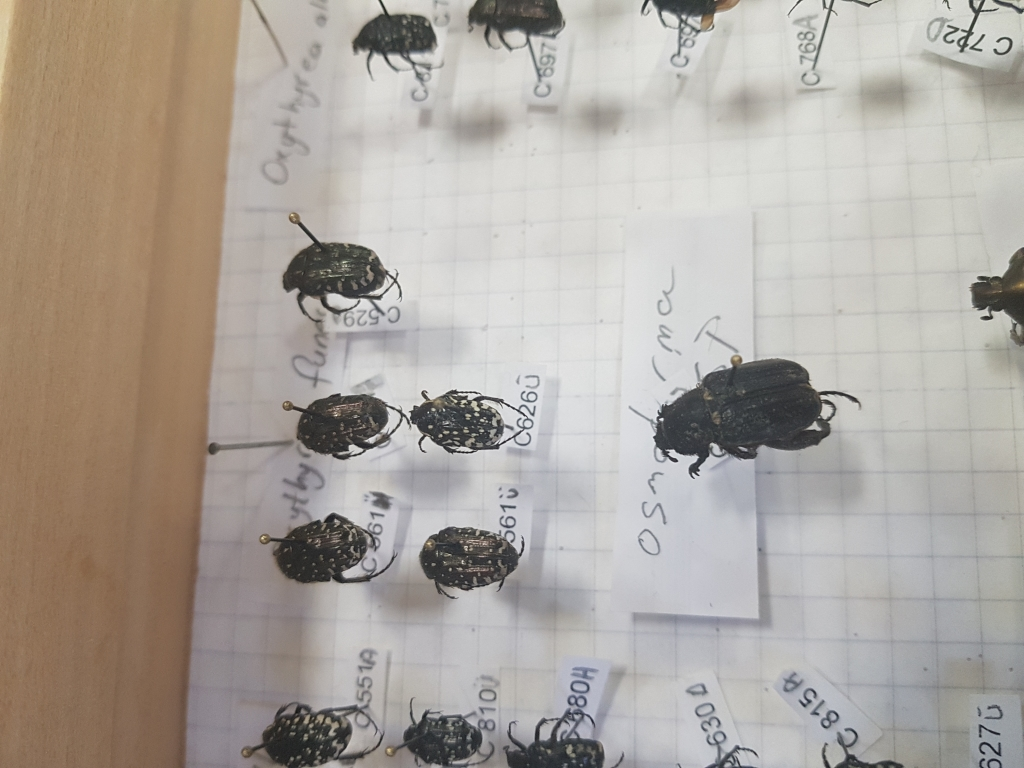Oxythyrea_funesta: (401, 380, 531, 459), (419, 514, 529, 597)
